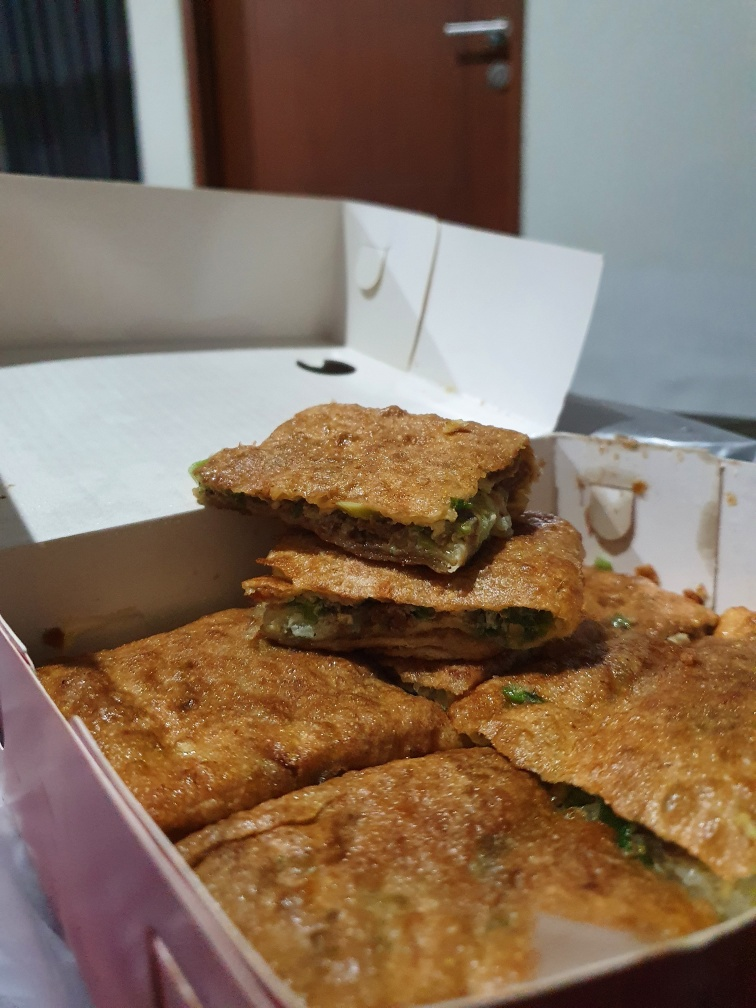martabak telor: (138, 740, 756, 1001), (435, 622, 756, 876), (59, 601, 465, 769), (208, 391, 544, 575), (247, 513, 584, 653)
